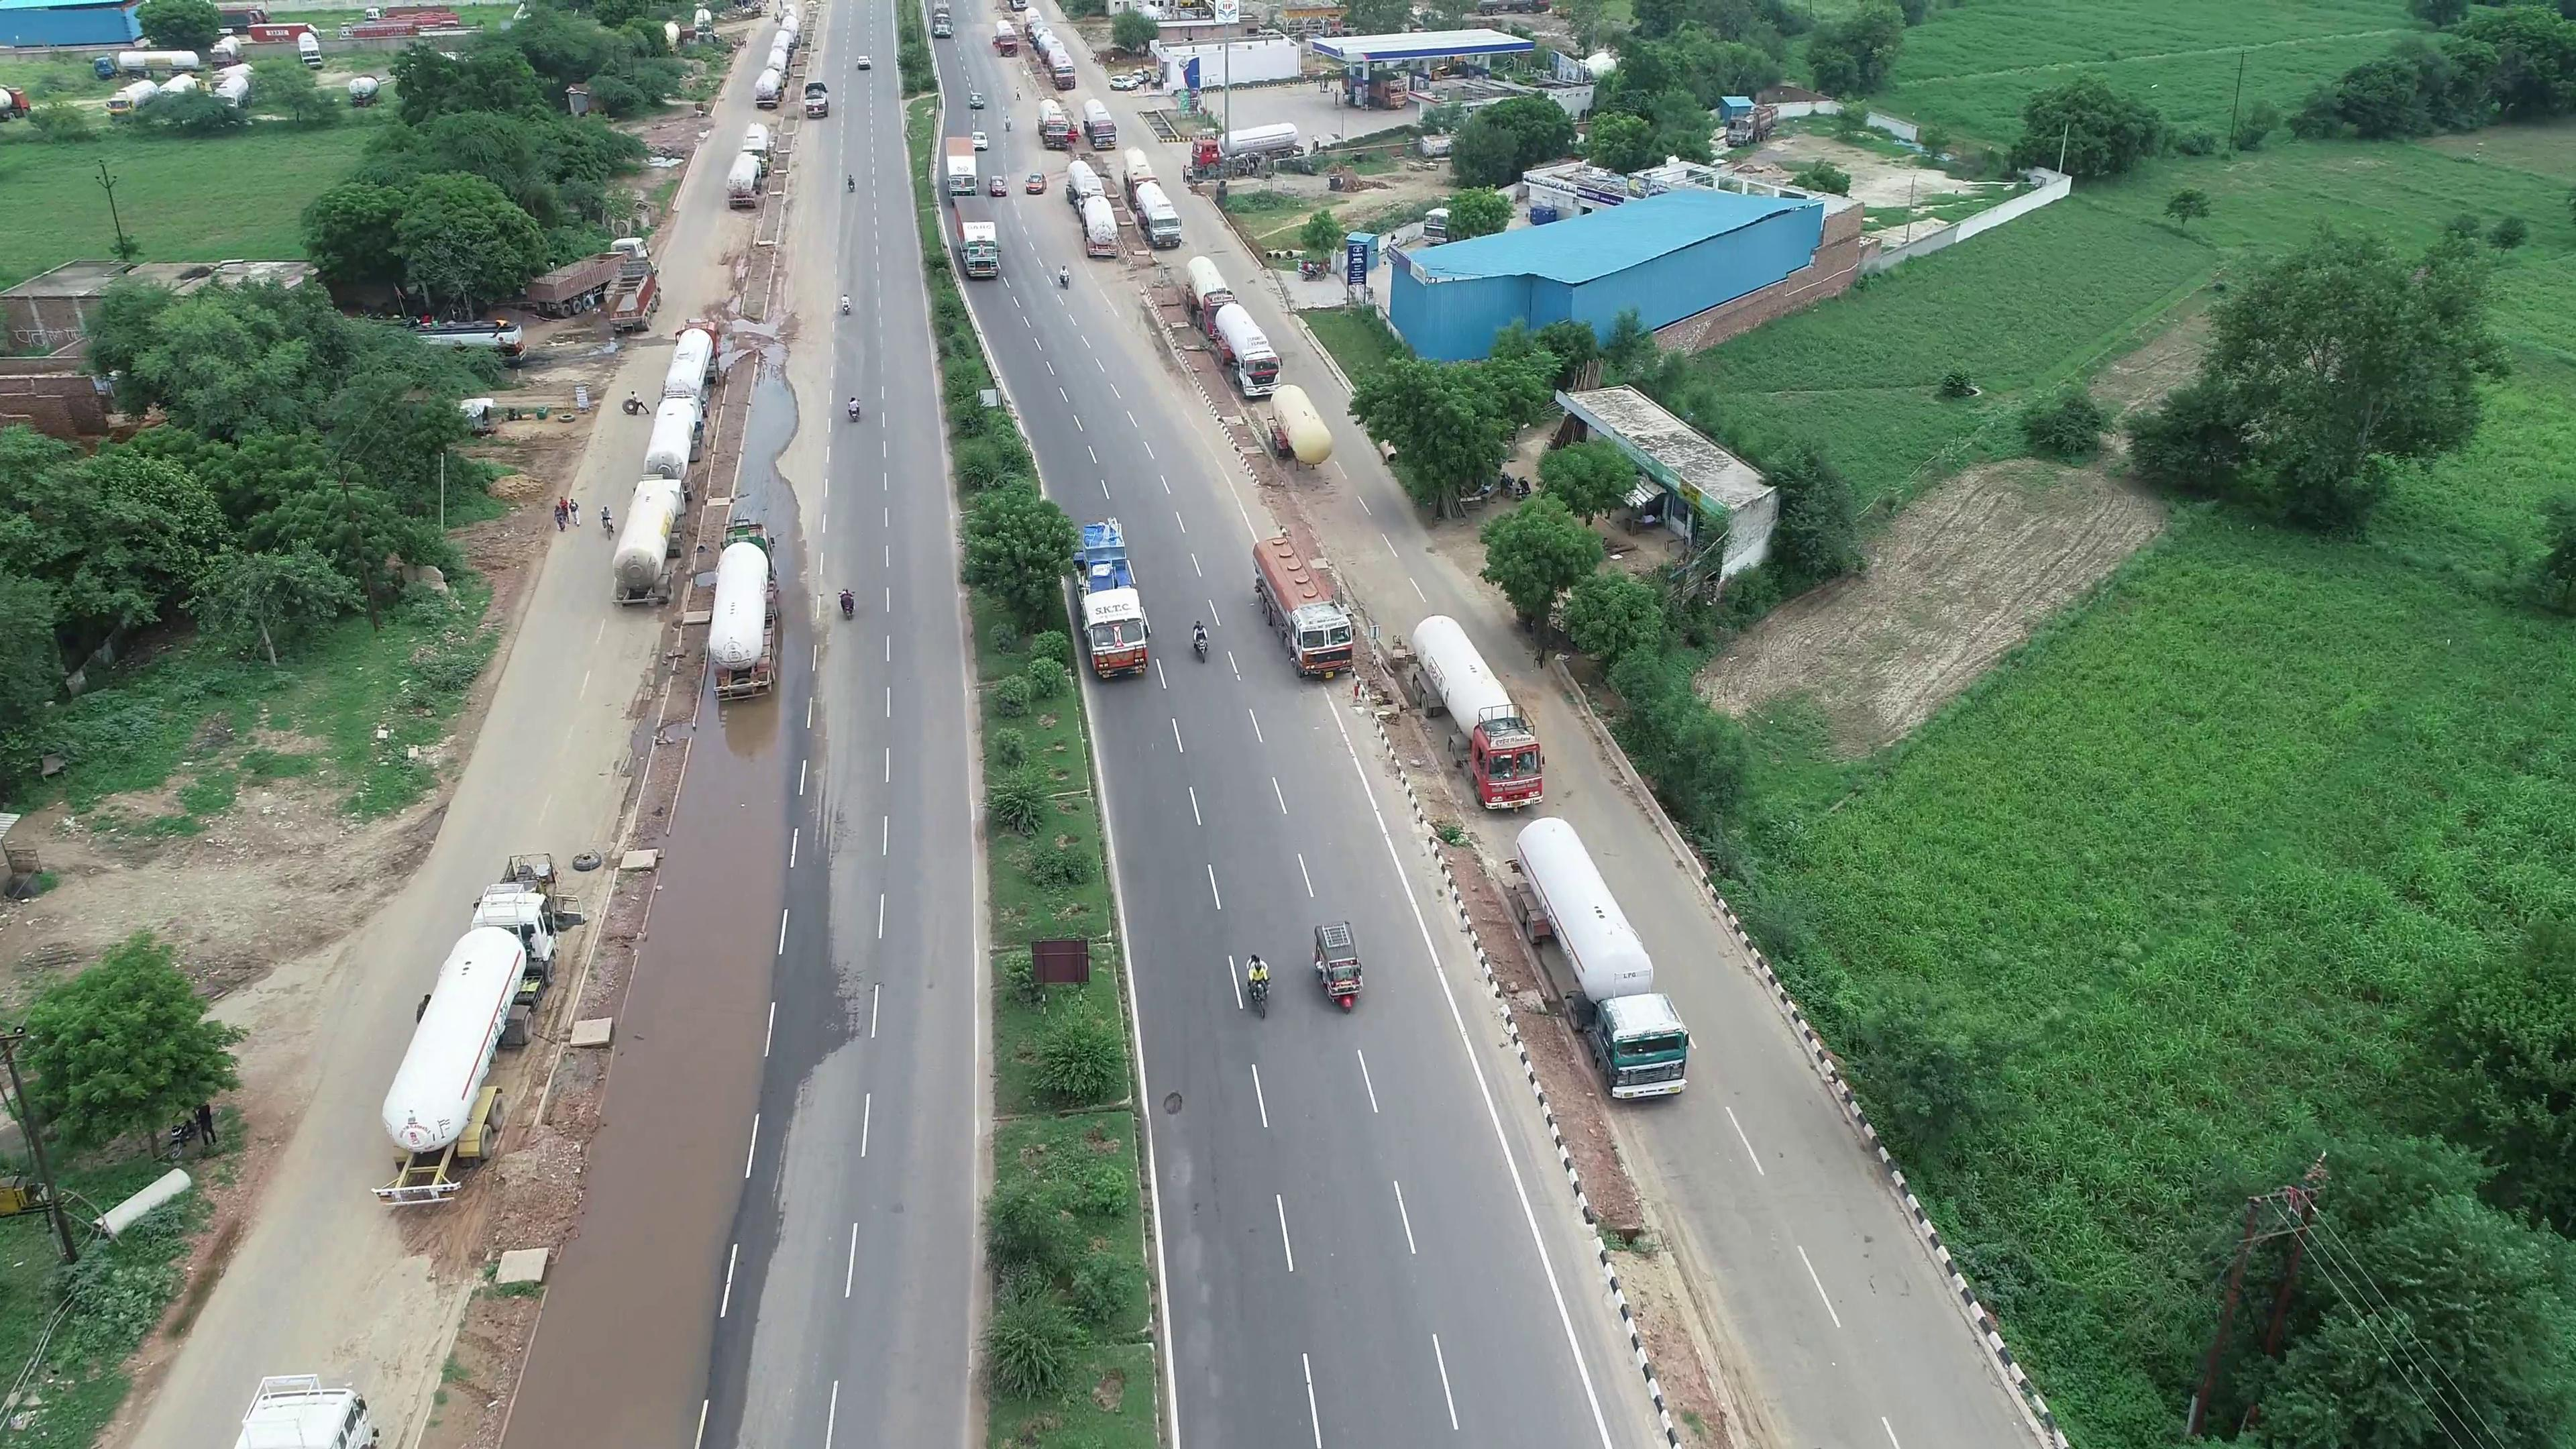Potholes: (1148, 1074, 1221, 1146)
Waterlogging: (596, 830, 791, 1175), (525, 1177, 731, 1435)
